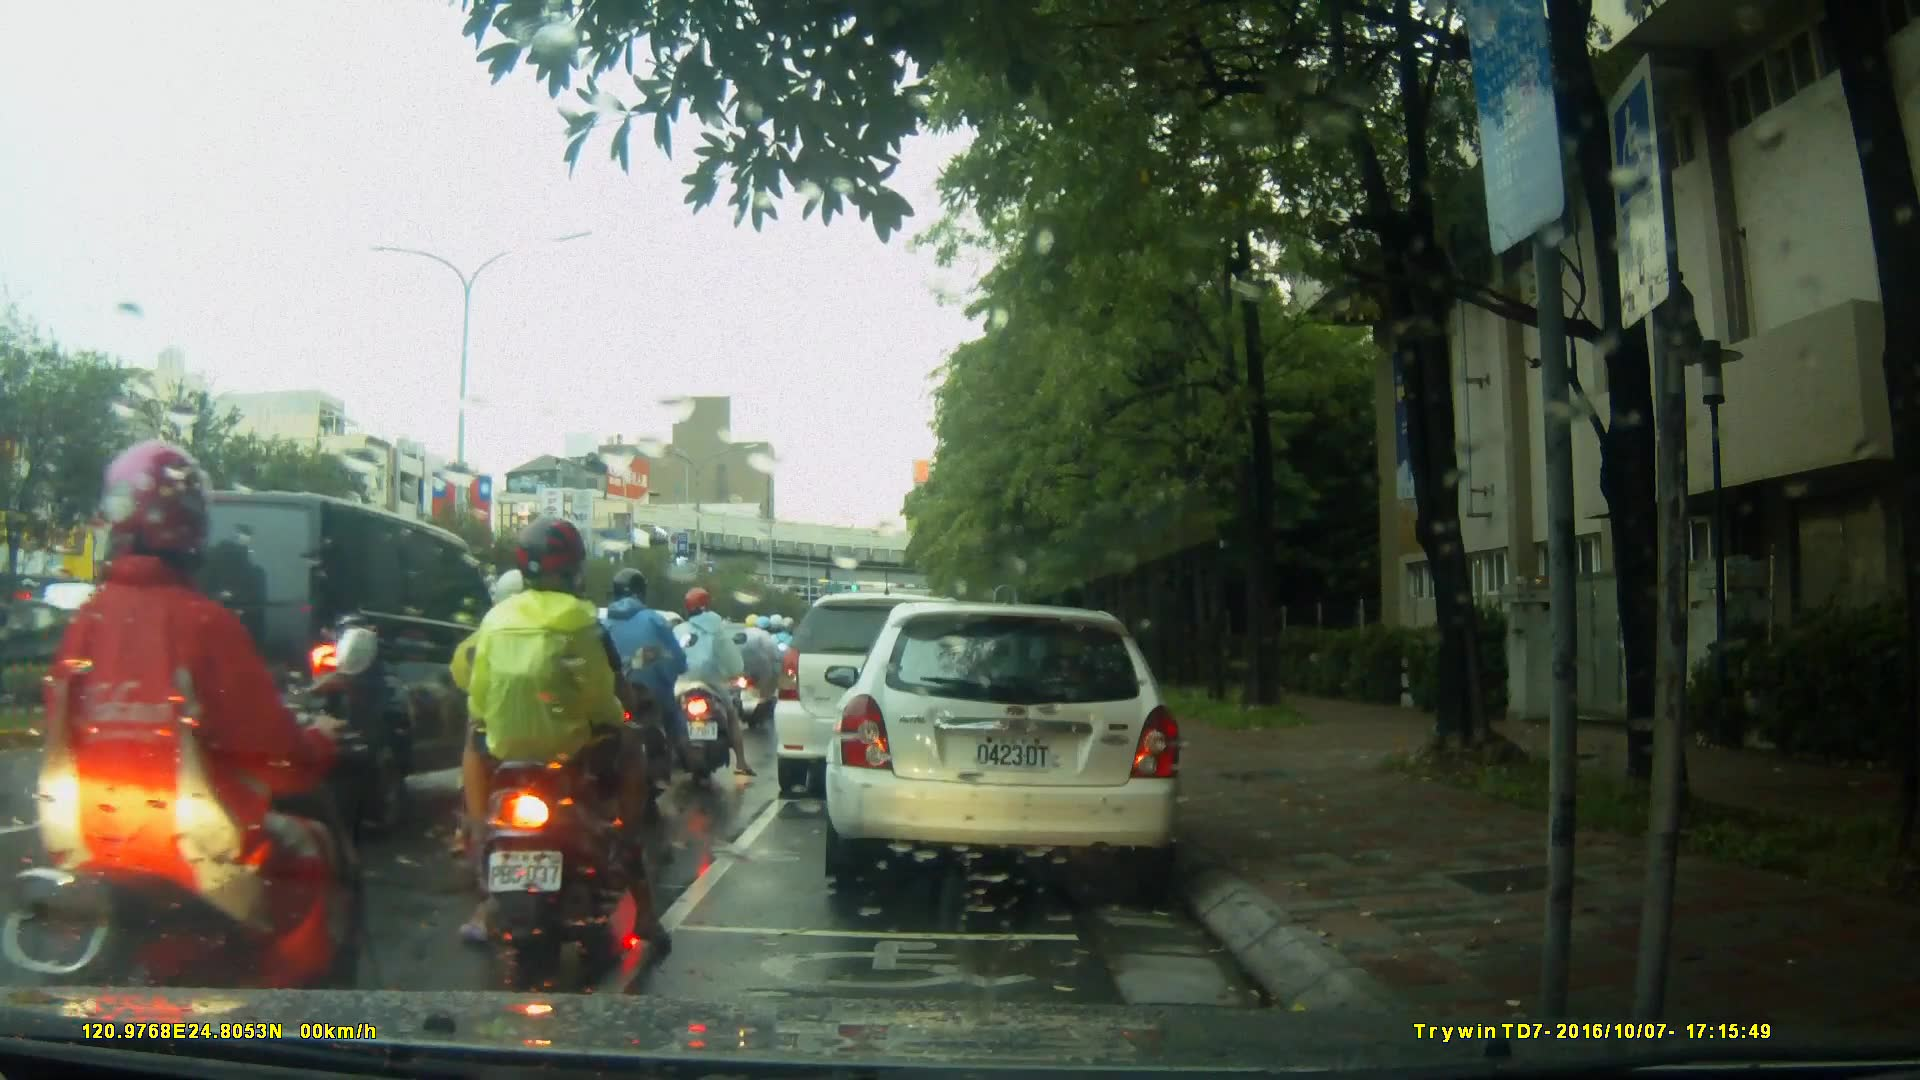rider: (19, 433, 370, 1067), (458, 518, 683, 959), (463, 573, 603, 891), (580, 568, 695, 823), (664, 588, 747, 784), (734, 612, 782, 734)
vehicle: (81, 484, 506, 840), (822, 604, 1188, 883), (774, 595, 995, 802), (467, 601, 703, 770)
